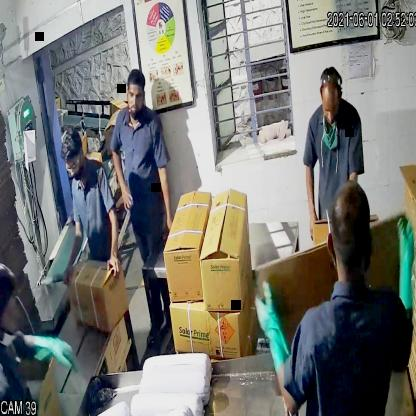goggles: (59, 153, 83, 180)
